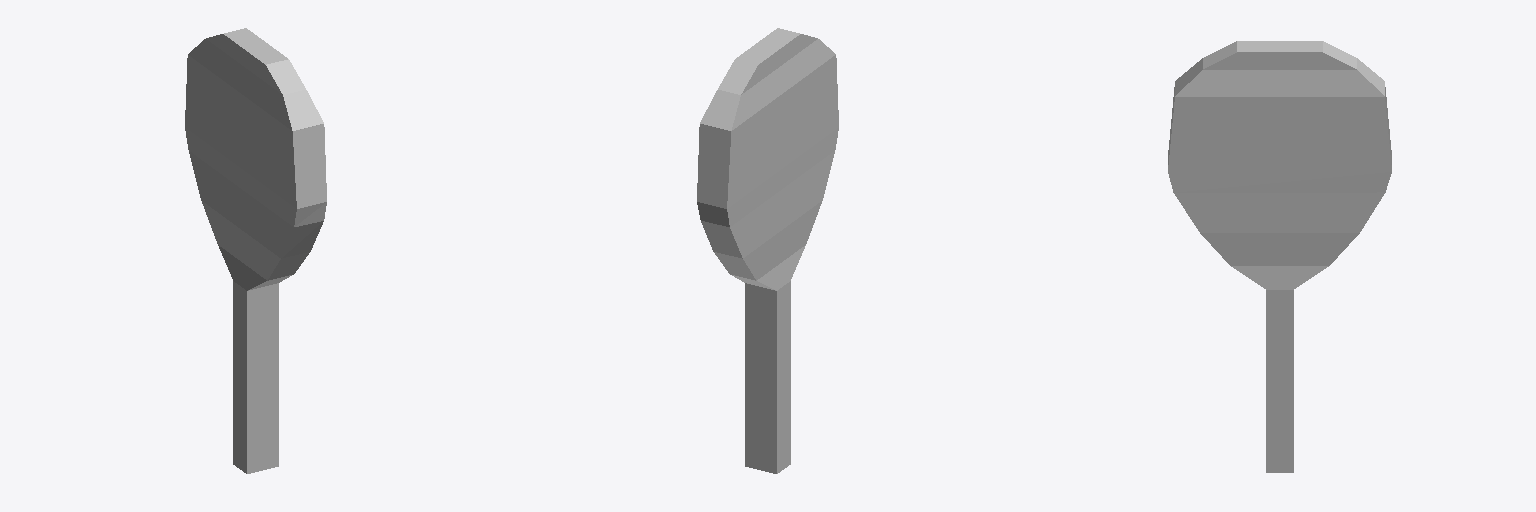
The model's file is Shovel.obj.
The picture shows the model from 3 angles: view 1: azimuth 30°, elevation 25°; view 2: azimuth 150°, elevation 25°; view 3: azimuth 270°, elevation 25°; orthographic projection.
Visible parts, largest first — view 1: Shovel; view 2: Shovel; view 3: Shovel.
Boxes of the visible parts, <box> form: Shovel: <box>185,28,326,473</box>; Shovel: <box>697,28,838,473</box>; Shovel: <box>1168,41,1391,472</box>.
Bounding box in the file's own units: 0.1747 × 2.2 × 1.07.